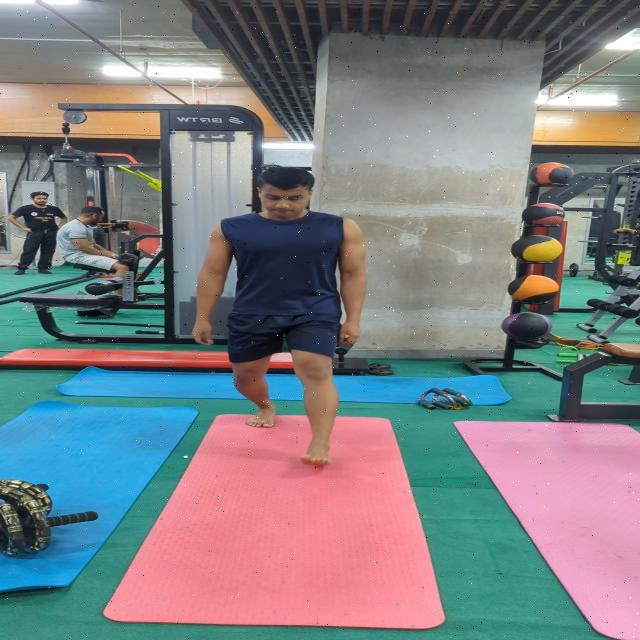Normal_Lunges: (192, 164, 368, 471)
